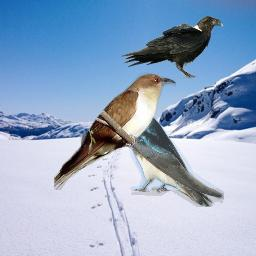Crow: (120, 15, 224, 79)
Cuckoo: (54, 72, 176, 190)
Swallow: (114, 100, 224, 207)
